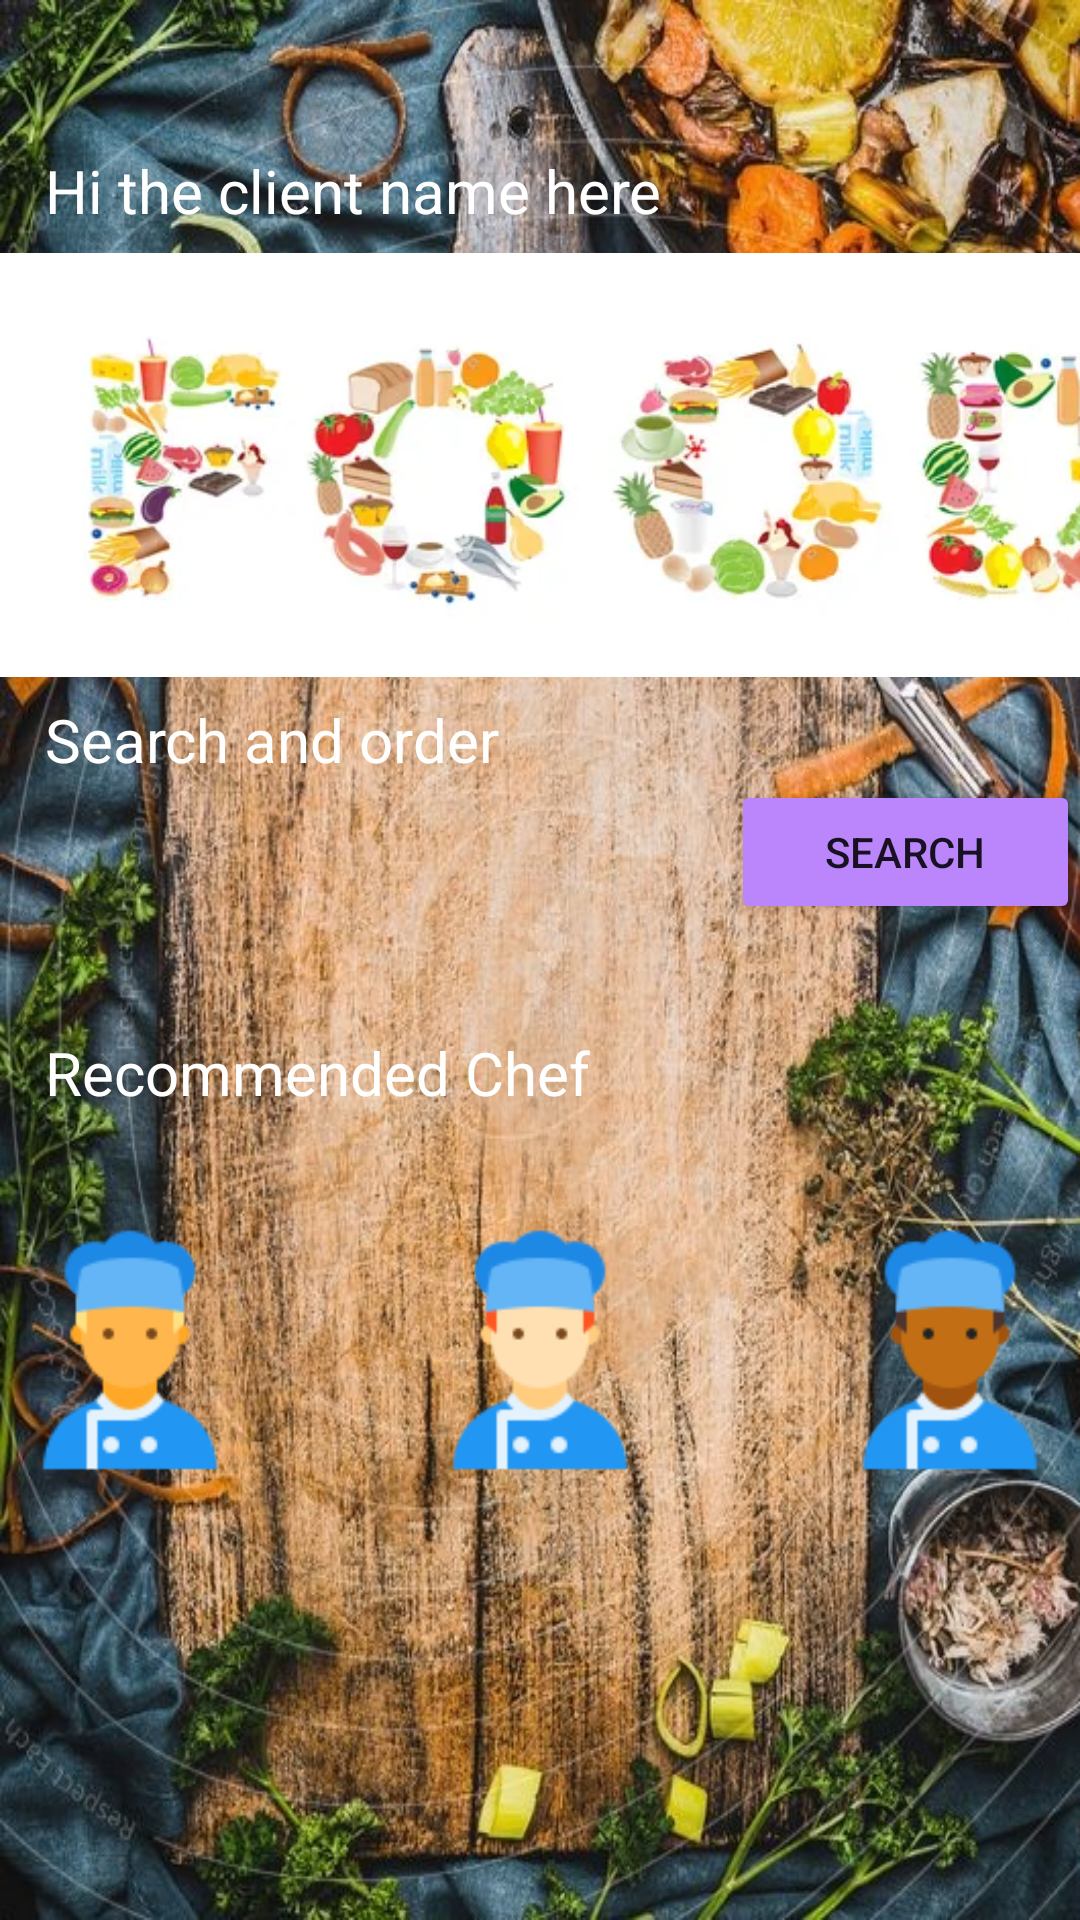

Icon click points for this 1080x1920 phone screenshot, format (x,y):
chief: (130,1350), (540,1350)
